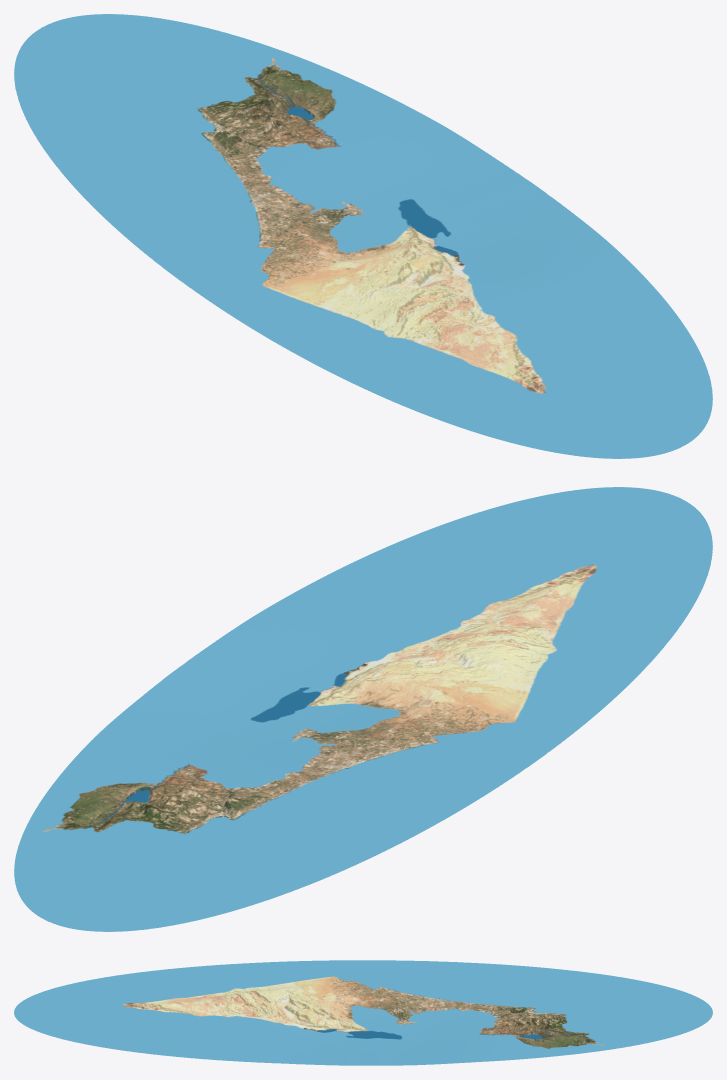
Rendered from ISR-previa-terrain.glb.
The picture shows the model from 3 angles, top to bottom: view 1: azimuth 30°, elevation 25°; view 2: azimuth 150°, elevation 25°; view 3: azimuth 270°, elevation 25°; orthographic projection. The views are drawn at different scales.
Parts seen in each view (by area): view 1: Israel; view 2: Israel; view 3: Israel.
Boxes of the visible parts, box(x1,y1,x2,y2) form: Israel: box(14, 14, 712, 458); Israel: box(14, 487, 712, 931); Israel: box(14, 960, 712, 1065).
Size of the model in its own units: 0.9017 by 0.0421 by 2.54.
Materials: 1 (1 with a texture image).
